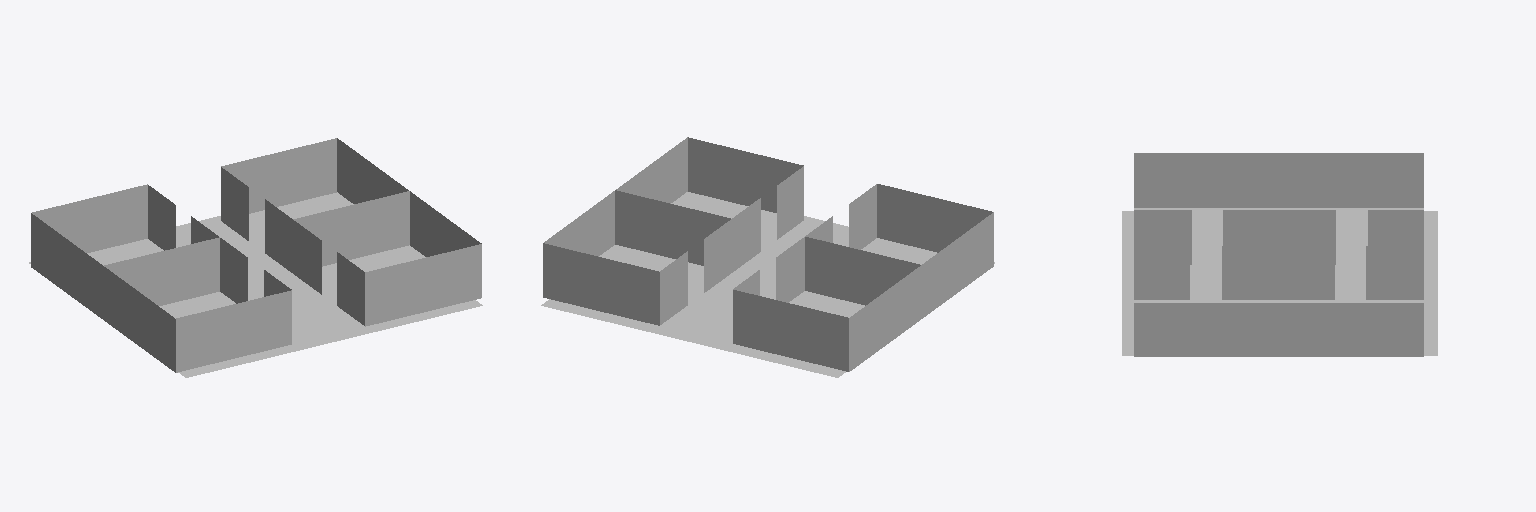
The model's file is trial_scribble.obj.
3 views of the same model, side by side, from view 1: azimuth 30°, elevation 25°; view 2: azimuth 150°, elevation 25°; view 3: azimuth 270°, elevation 25° (orthographic).
Visible parts, largest first — view 1: pCube1 group5 group3 group4, group3 group4 pCube1 group6, group3 group4 group6 pCube2, group5 group3 group4 pCube2, pPlane2; view 2: group3 group4 pCube1 group6, pCube1 group5 group3 group4, group5 group3 group4 pCube2, group3 group4 group6 pCube2, pPlane2; view 3: group3 group4 pCube1 group6, group3 group4 group6 pCube2, pCube1 group5 group3 group4, group5 group3 group4 pCube2, pPlane2.
Part boxes in pixels (bbox=[...]): pCube1 group5 group3 group4: bbox=[103, 237, 291, 372]; group3 group4 pCube1 group6: bbox=[221, 138, 409, 272]; group3 group4 group6 pCube2: bbox=[293, 191, 481, 326]; group5 group3 group4 pCube2: bbox=[31, 184, 218, 318]; pPlane2: bbox=[29, 216, 482, 377]; group3 group4 pCube1 group6: bbox=[543, 190, 731, 325]; pCube1 group5 group3 group4: bbox=[805, 184, 993, 318]; group5 group3 group4 pCube2: bbox=[733, 237, 921, 371]; group3 group4 group6 pCube2: bbox=[616, 137, 803, 272]; pPlane2: bbox=[541, 216, 994, 377]; group3 group4 pCube1 group6: bbox=[1279, 246, 1423, 356]; group3 group4 group6 pCube2: bbox=[1134, 246, 1278, 356]; pCube1 group5 group3 group4: bbox=[1134, 153, 1278, 264]; group5 group3 group4 pCube2: bbox=[1279, 153, 1423, 264]; pPlane2: bbox=[1122, 211, 1437, 355].
Size of the model in its own units: 52.42 by 9.18 by 46.81.